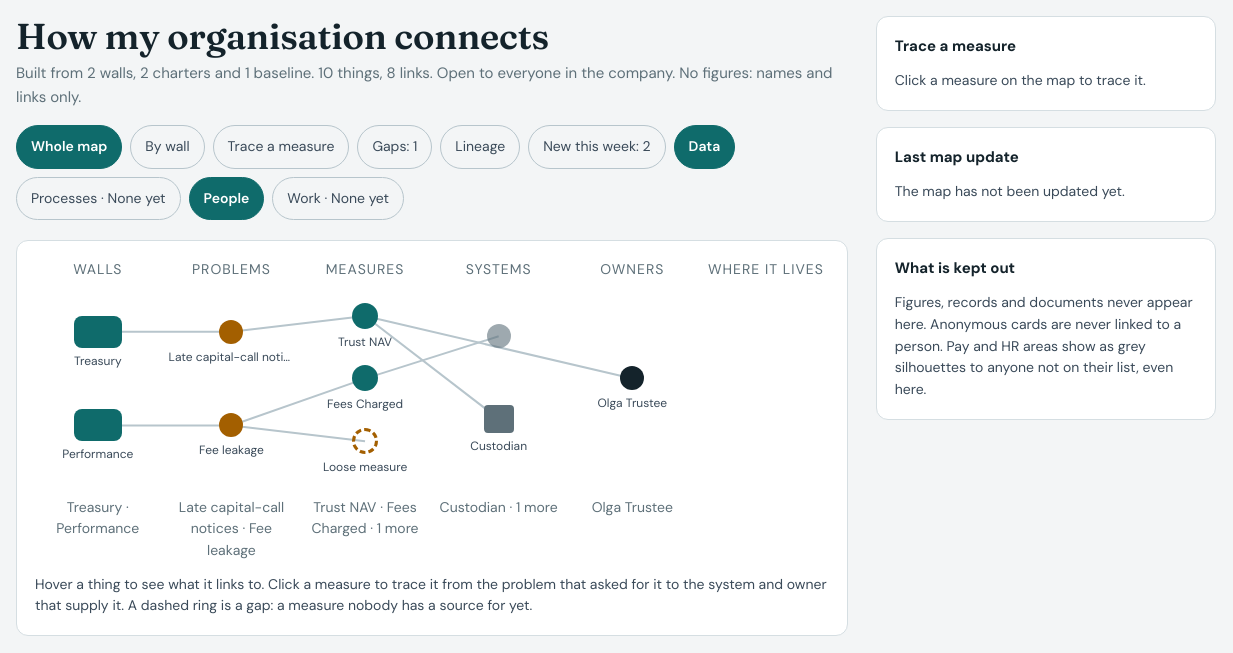
How my organisation connects › the chip, the filtered columns and the panel tell one story
Expected: the text "The links around Fees Charged were updated." is not shown
Click the button "New this week: 2". click: (597, 147)
box: [528,125,666,168]
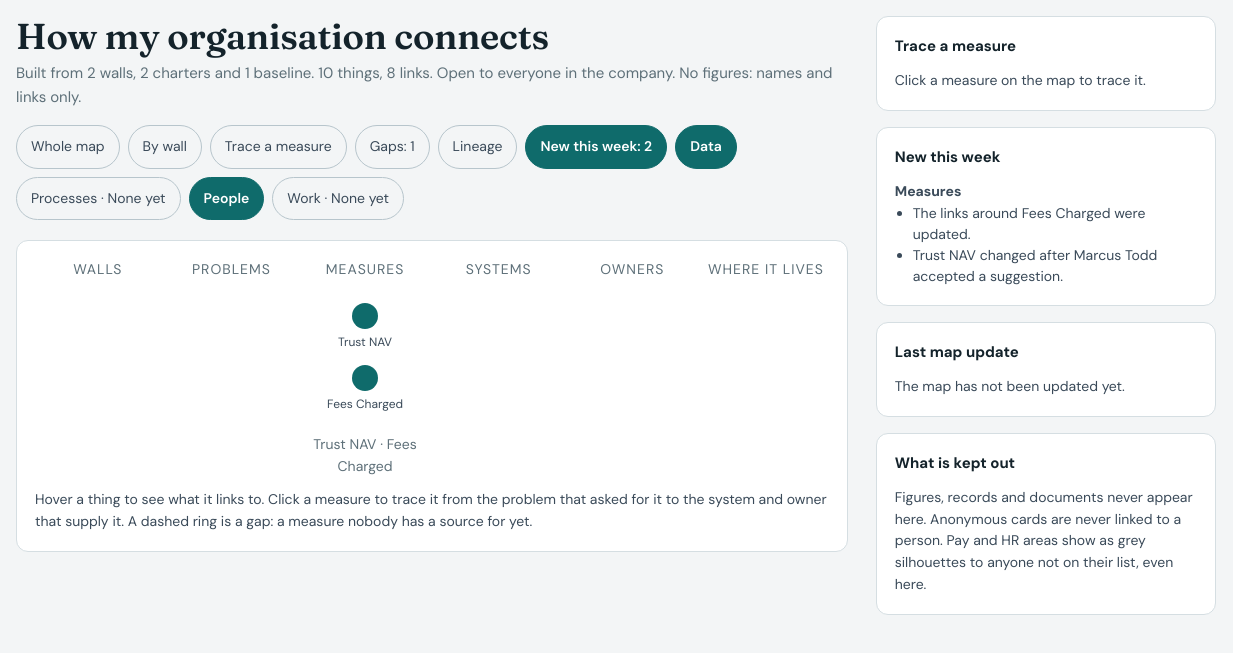
Expected: the list item "The links around Fees Charged were updated." is shown, [913,204,1145,243]
Expected: the list item "Trust NAV changed after Marcus Todd accepted a suggestion." is shown, [913,245,1197,287]
Expected: the number of list items is 2, [913,204,1145,243]; [913,245,1197,287]
